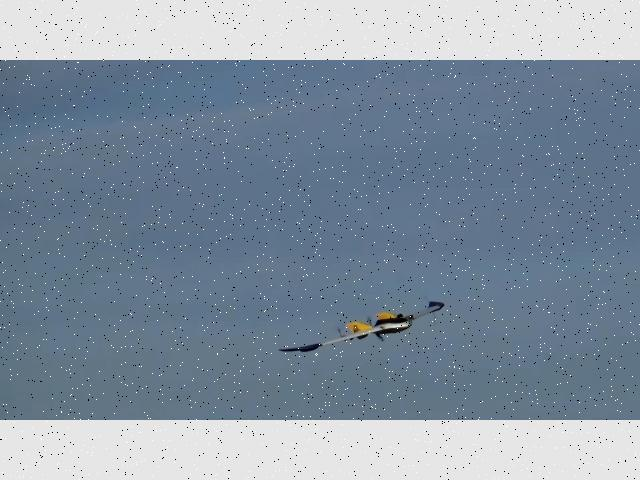Anti-Drone: (280, 301, 444, 353)
